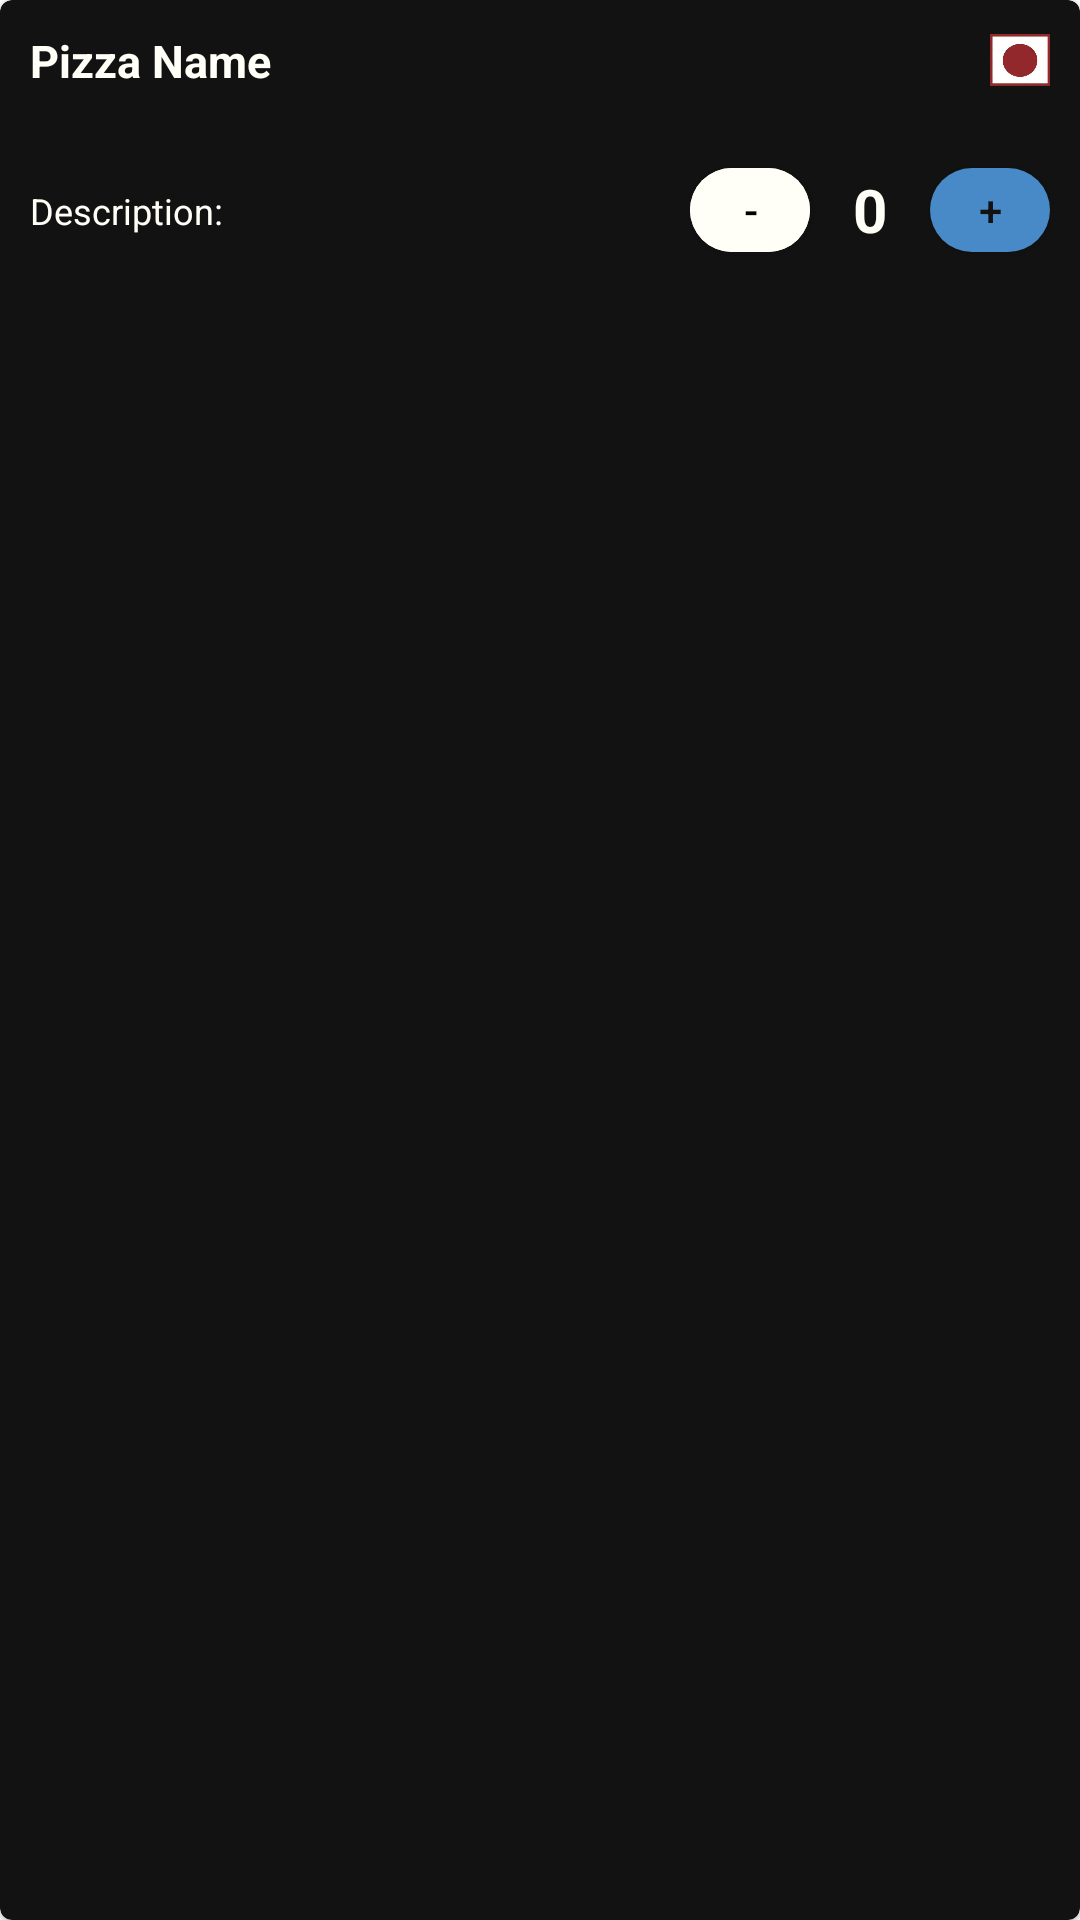

Icons on this 1080 x 1920 Android screen, each with its box as (x1, y1, x2, y2):
non veg: (990, 34, 1050, 86)
